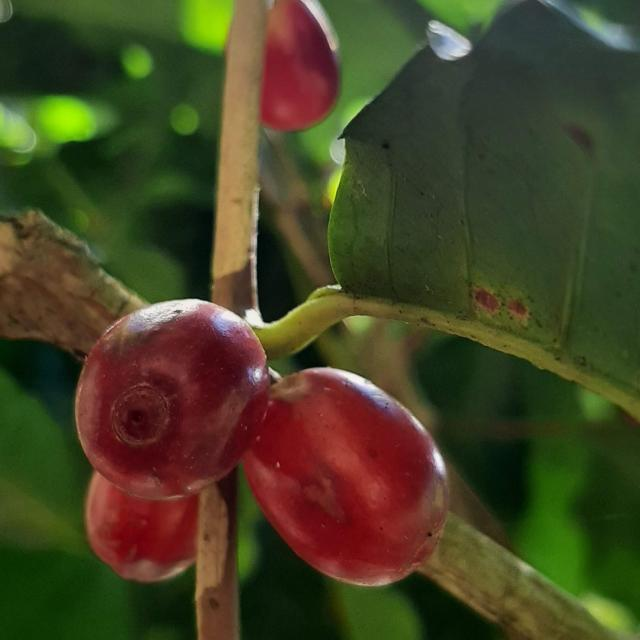Ripe: (243, 368, 448, 587), (75, 299, 269, 502), (85, 472, 197, 584), (260, 0, 340, 131)
